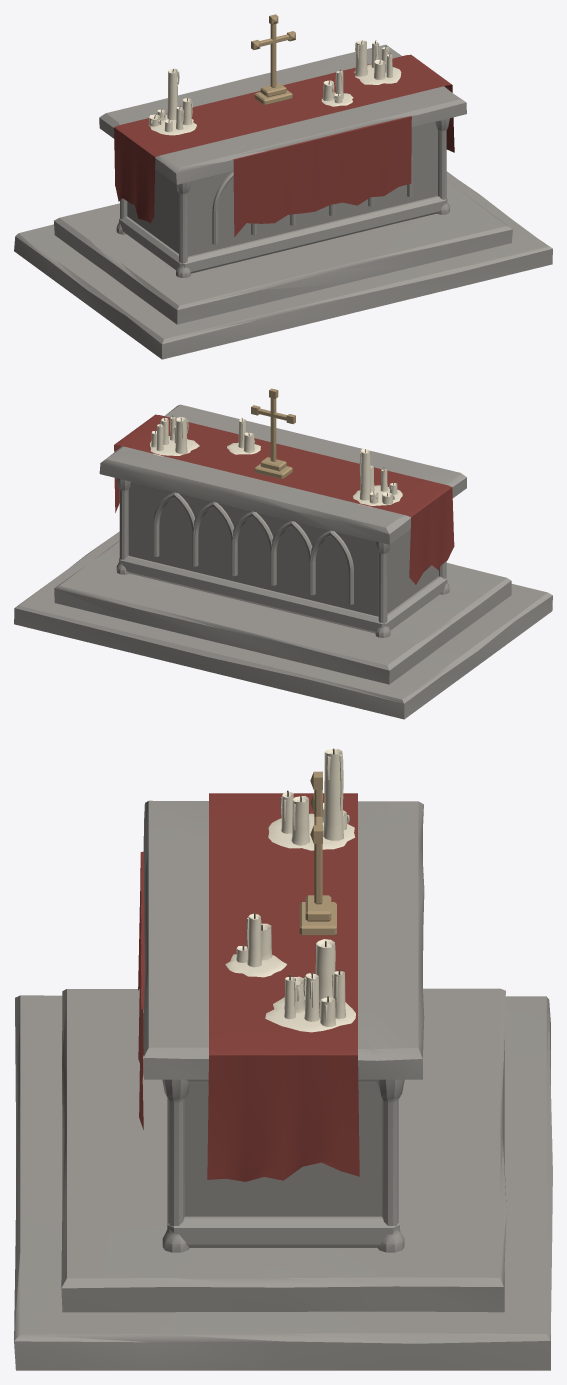
Rendered from altar.glb.
3 views of the same model, one above another, from view 1: azimuth 30°, elevation 25°; view 2: azimuth 150°, elevation 25°; view 3: azimuth 270°, elevation 25° (orthographic). The views are drawn at different scales.
Parts seen in each view (by area): view 1: altar, altar_cloth; view 2: altar, altar_cloth; view 3: altar, altar_cloth.
Part boxes in pixels (left/top/right/bottom): altar: left=14, top=14, right=552, bottom=359; altar_cloth: left=114, top=54, right=454, bottom=236; altar: left=14, top=388, right=552, bottom=719; altar_cloth: left=114, top=414, right=454, bottom=584; altar: left=14, top=748, right=552, bottom=1370; altar_cloth: left=138, top=793, right=359, bottom=1181.
Bounding box in the file's own units: 3.51 × 2.01 × 2.32.
